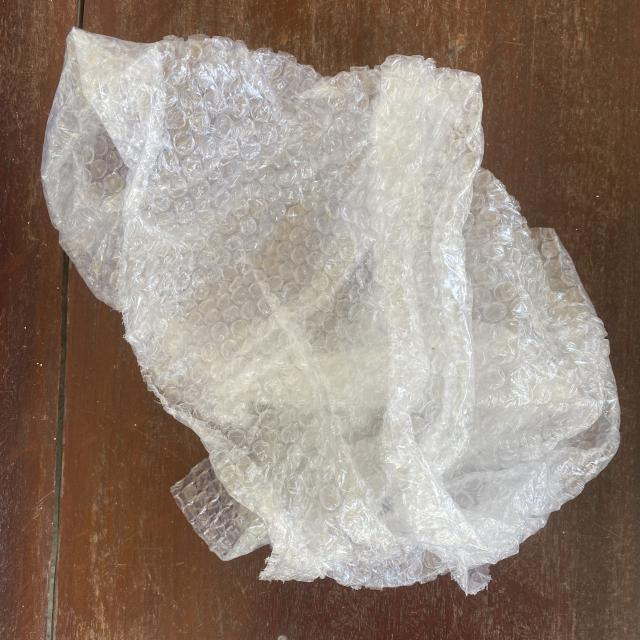Single-layer Plastic: (41, 30, 619, 592)
